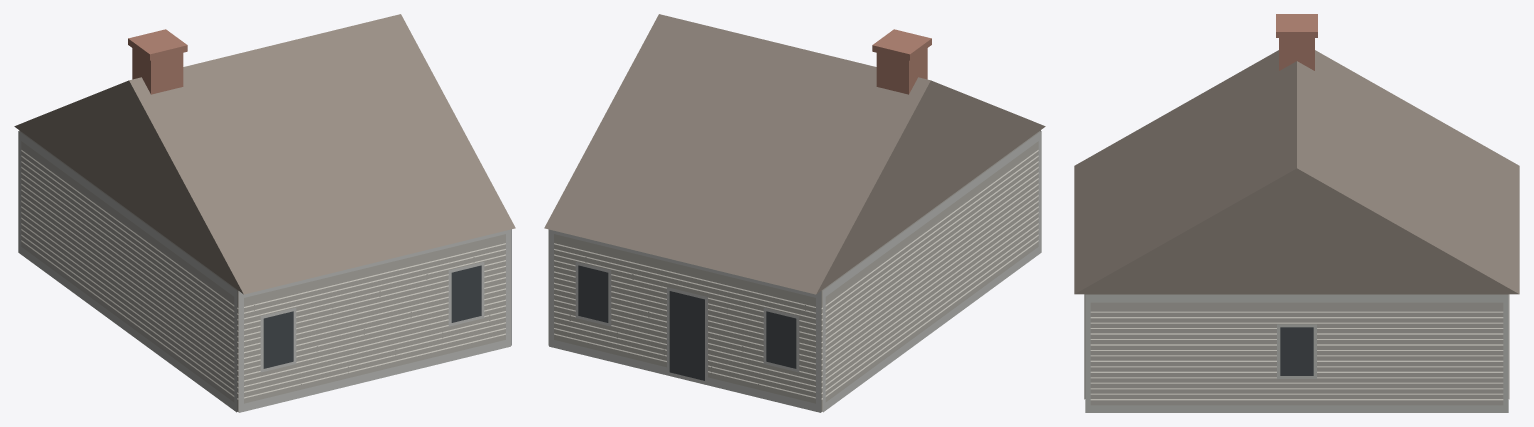
The model's file is recon_1835_north_d5_037__inferred_1835.glb.
3 renders of one model, left to right at view 1: azimuth 30°, elevation 25°; view 2: azimuth 150°, elevation 25°; view 3: azimuth 270°, elevation 25°, orthographic. The views are drawn at different scales.
Parts seen in each view (by area): view 1: recon_1835_north_d5_037__inferred_1835; view 2: recon_1835_north_d5_037__inferred_1835; view 3: recon_1835_north_d5_037__inferred_1835.
Part boxes in pixels (left/top/right/bottom): recon_1835_north_d5_037__inferred_1835: left=14, top=14, right=515, bottom=412; recon_1835_north_d5_037__inferred_1835: left=544, top=14, right=1045, bottom=412; recon_1835_north_d5_037__inferred_1835: left=1074, top=14, right=1519, bottom=412.
Size of the model in its own units: 7.13 by 7.03 by 10.32.
